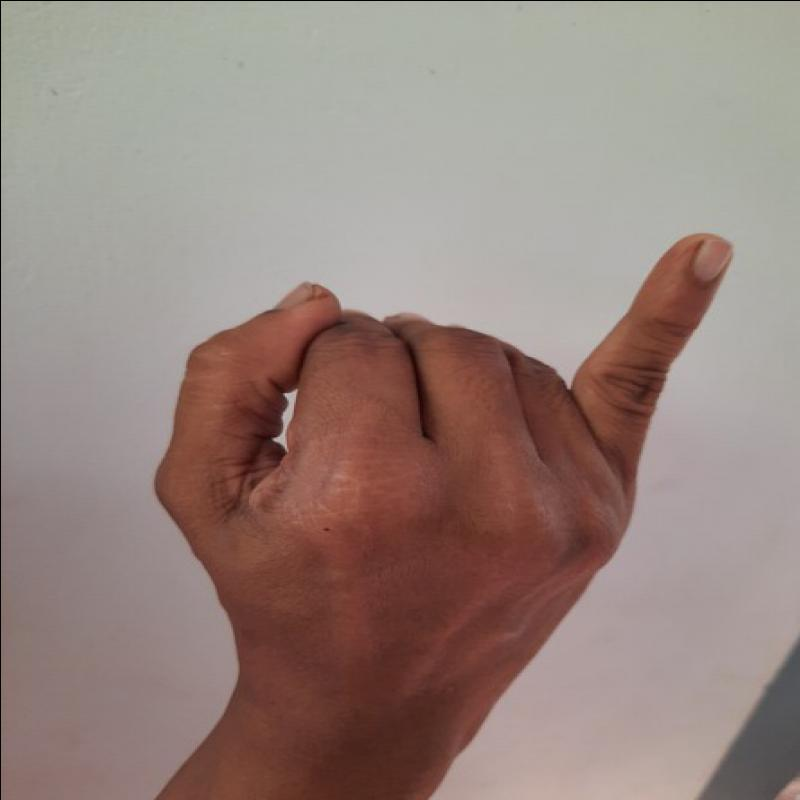Kartharee Mukham: (150, 222, 741, 709)
